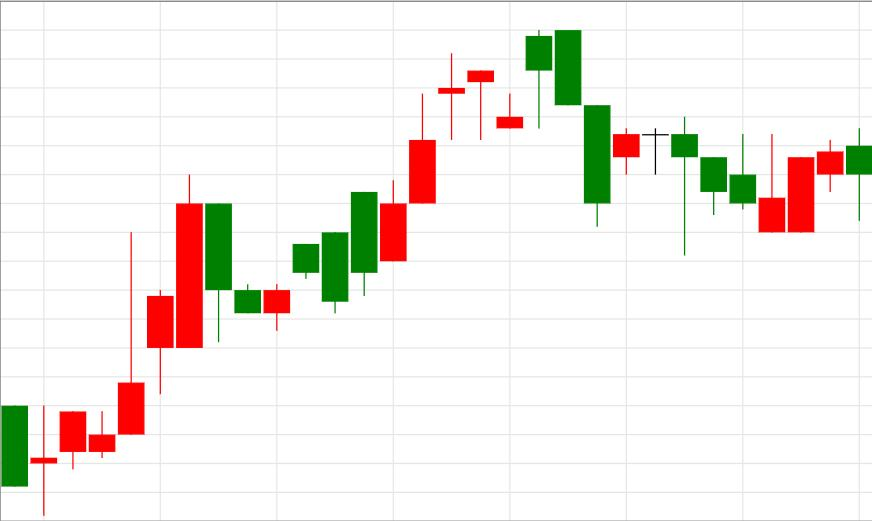hammer_rise: (381, 30, 552, 261)
